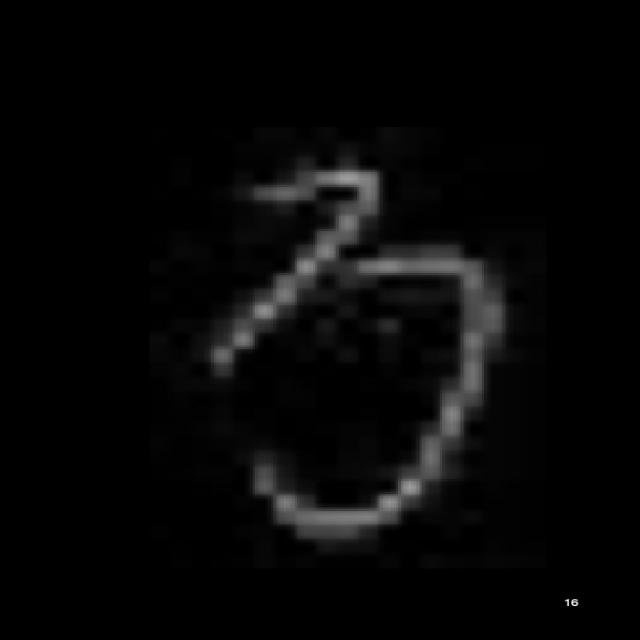10000 -a ten thousand-: (172, 156, 523, 548)
